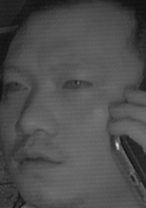eye: (61, 74, 93, 94), (4, 77, 28, 95)
mouth: (11, 143, 61, 176)
